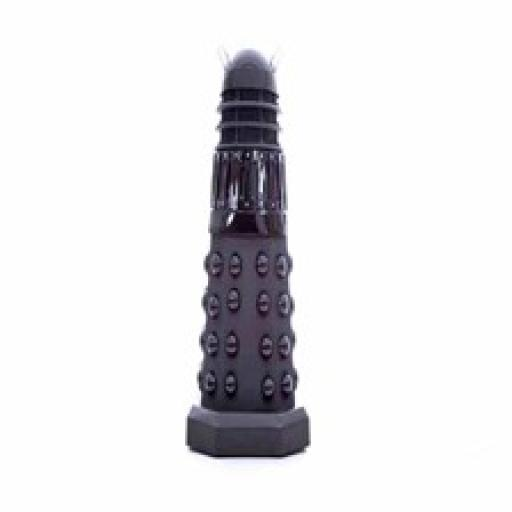dalek: (182, 41, 316, 459)
